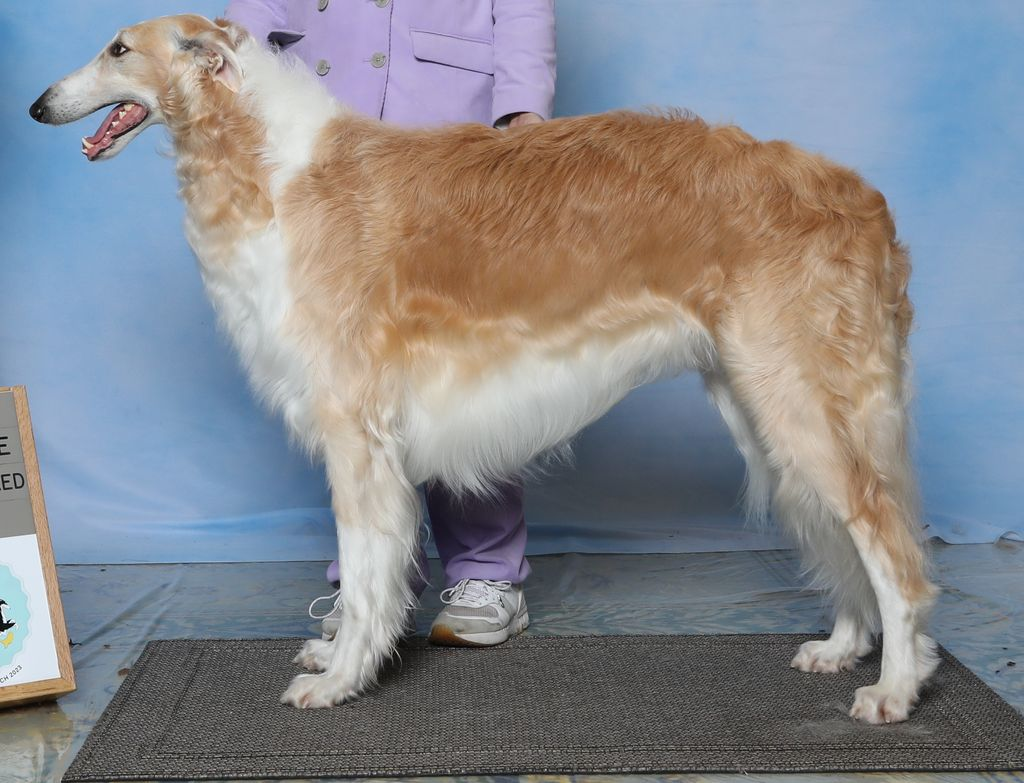borzoi: (18, 16, 948, 729)
